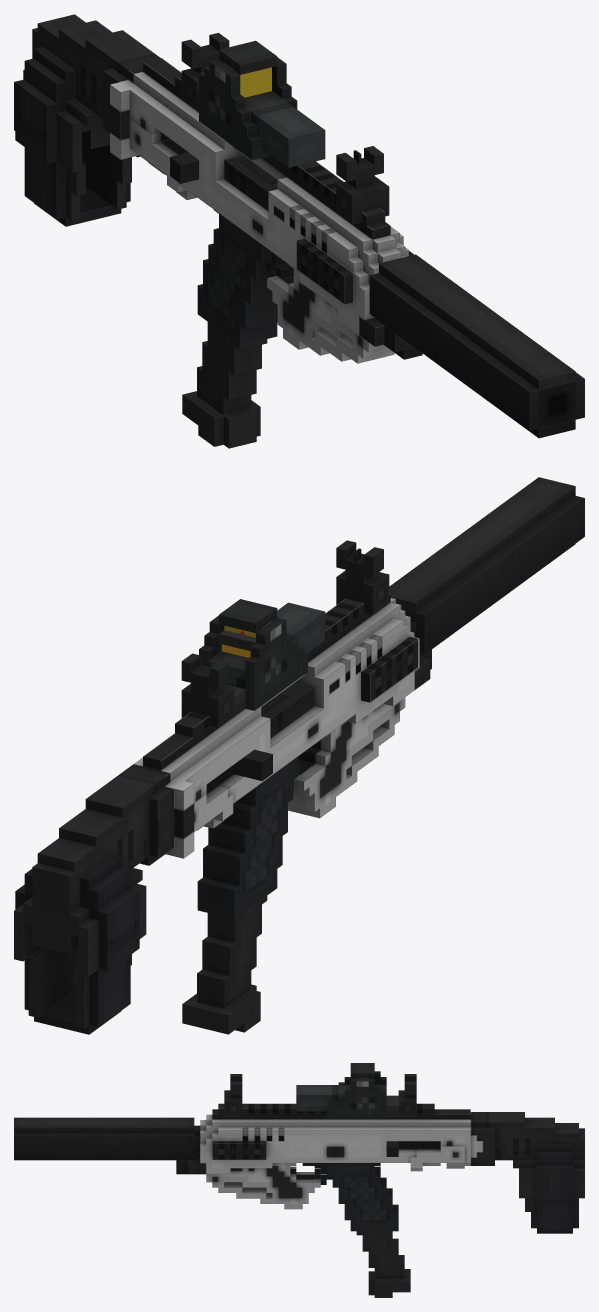
The model's file is RD_GLOCK18C.glb.
3 views of the same model, one above another, from view 1: azimuth 30°, elevation 25°; view 2: azimuth 150°, elevation 25°; view 3: azimuth 270°, elevation 25° (orthographic). The views are drawn at different scales.
Visible parts, largest first — view 1: GLOCK18C, SILENCER_6X6, SCOPE_EOTECH, GLOCK18C_CLIP, GLOCK18C_SCOPE, GLOCK18C_BOLT; view 2: GLOCK18C, SILENCER_6X6, SCOPE_EOTECH, GLOCK18C_CLIP, GLOCK18C_SCOPE, GLOCK18C_BOLT, SCOPE_TRIJICON; view 3: GLOCK18C, SILENCER_6X6, SCOPE_EOTECH, GLOCK18C_CLIP, GLOCK18C_SCOPE, SCOPE_TRIJICON.
Part boxes in pixels (<box>): GLOCK18C: <box>14,14,422,363</box>; SILENCER_6X6: <box>369,254,584,438</box>; SCOPE_EOTECH: <box>199,40,325,167</box>; GLOCK18C_CLIP: <box>182,322,267,448</box>; GLOCK18C_SCOPE: <box>181,33,389,224</box>; GLOCK18C_BOLT: <box>170,152,277,210</box>; GLOCK18C: <box>14,593,431,1034</box>; SILENCER_6X6: <box>389,477,584,657</box>; SCOPE_EOTECH: <box>199,599,325,710</box>; GLOCK18C_CLIP: <box>182,896,267,1034</box>; GLOCK18C_SCOPE: <box>181,540,389,727</box>; GLOCK18C_BOLT: <box>224,682,314,780</box>; SCOPE_TRIJICON: <box>219,630,275,715</box>; GLOCK18C: <box>176,1103,584,1233</box>; SILENCER_6X6: <box>14,1117,194,1160</box>; SCOPE_EOTECH: <box>296,1063,386,1119</box>; GLOCK18C_CLIP: <box>356,1231,410,1297</box>; GLOCK18C_SCOPE: <box>224,1074,416,1116</box>; SCOPE_TRIJICON: <box>362,1093,398,1119</box>.
Bounding box in the file's own units: 0.0984 × 0.4034 × 0.9348.
6 materials, 6 textured.
